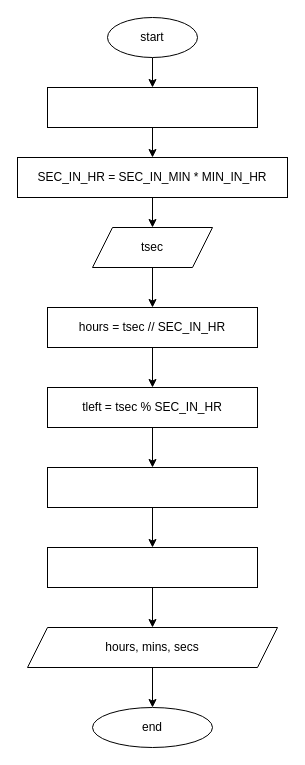
The diagram is 305 pixels wide and 765 high, and some of its shapes have lost their labels. The box of each missing label's shape, as (x1, y1, x2, y2) in pixels:
mins = tleft // SEC_IN_MIN: (46, 466, 258, 508)
SEC_IN_MIN = 60 MIN_IN_HR = 60: (46, 86, 258, 128)
secs = tleft % SEC_IN_MIN: (46, 546, 258, 588)
